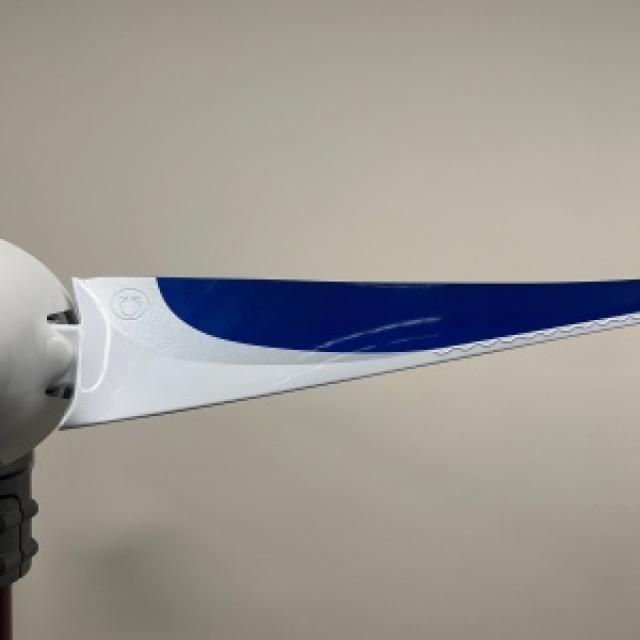healthy: (0, 237, 638, 638)
